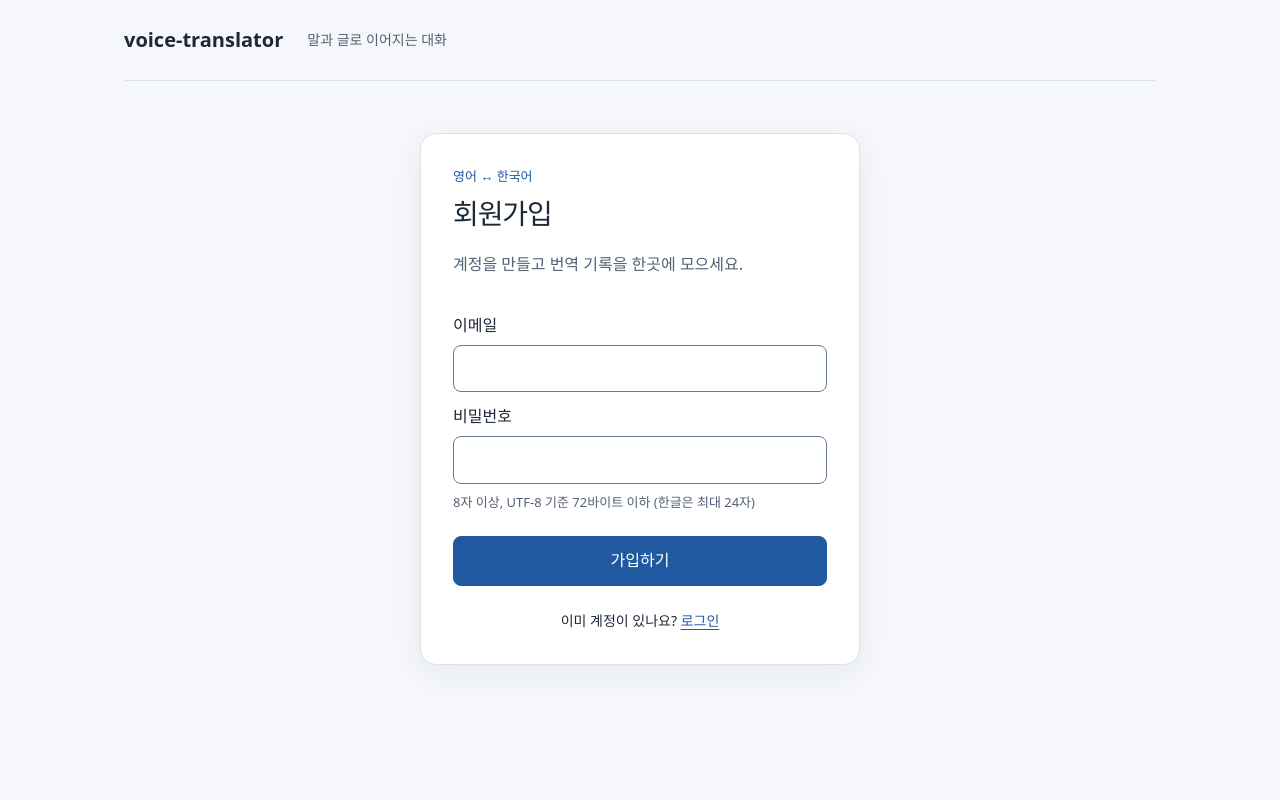
Test: authentication screens and routes › validates password character and byte limits before registration: short
Type "person@example.com" into the field labelled "이메일" at {"x": 640, "y": 369}, box [453,345,827,392]
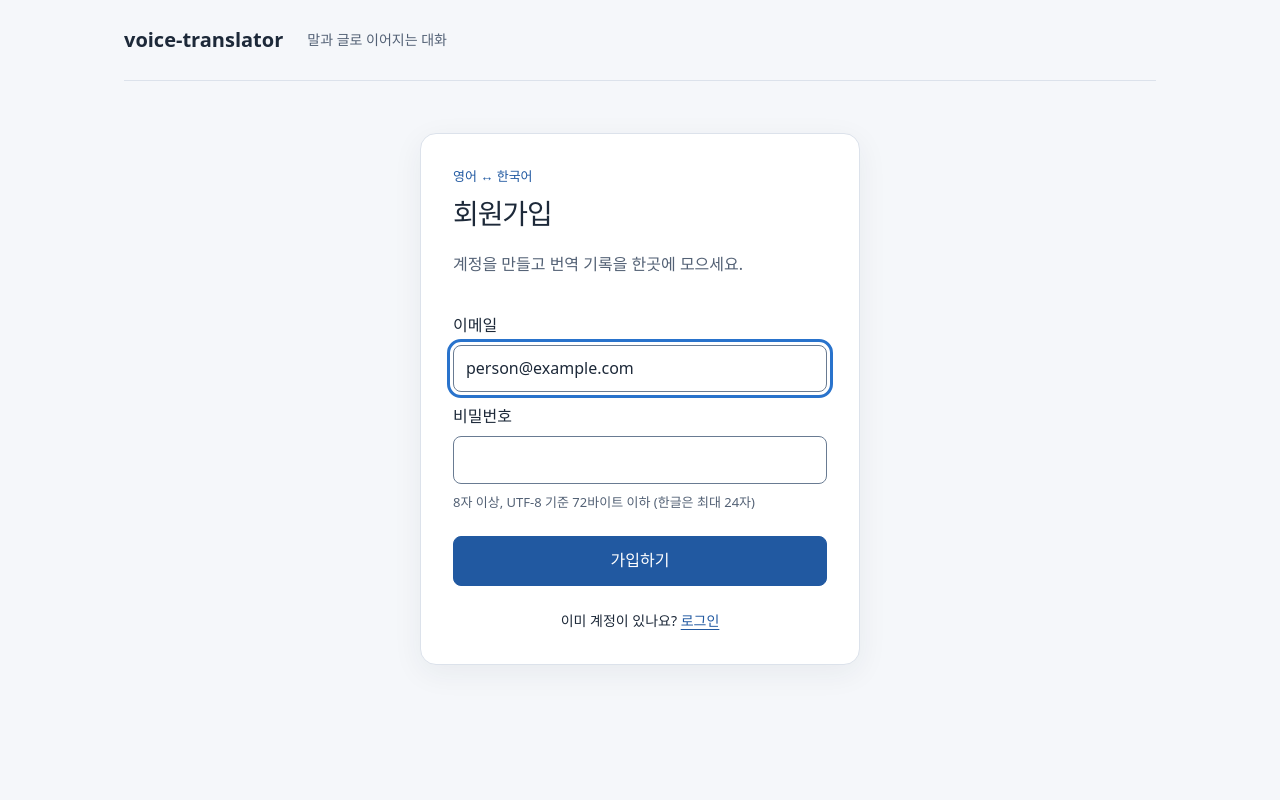
Type "short" into the password field labelled "비밀번호" at {"x": 640, "y": 460}, box [453,436,827,484]
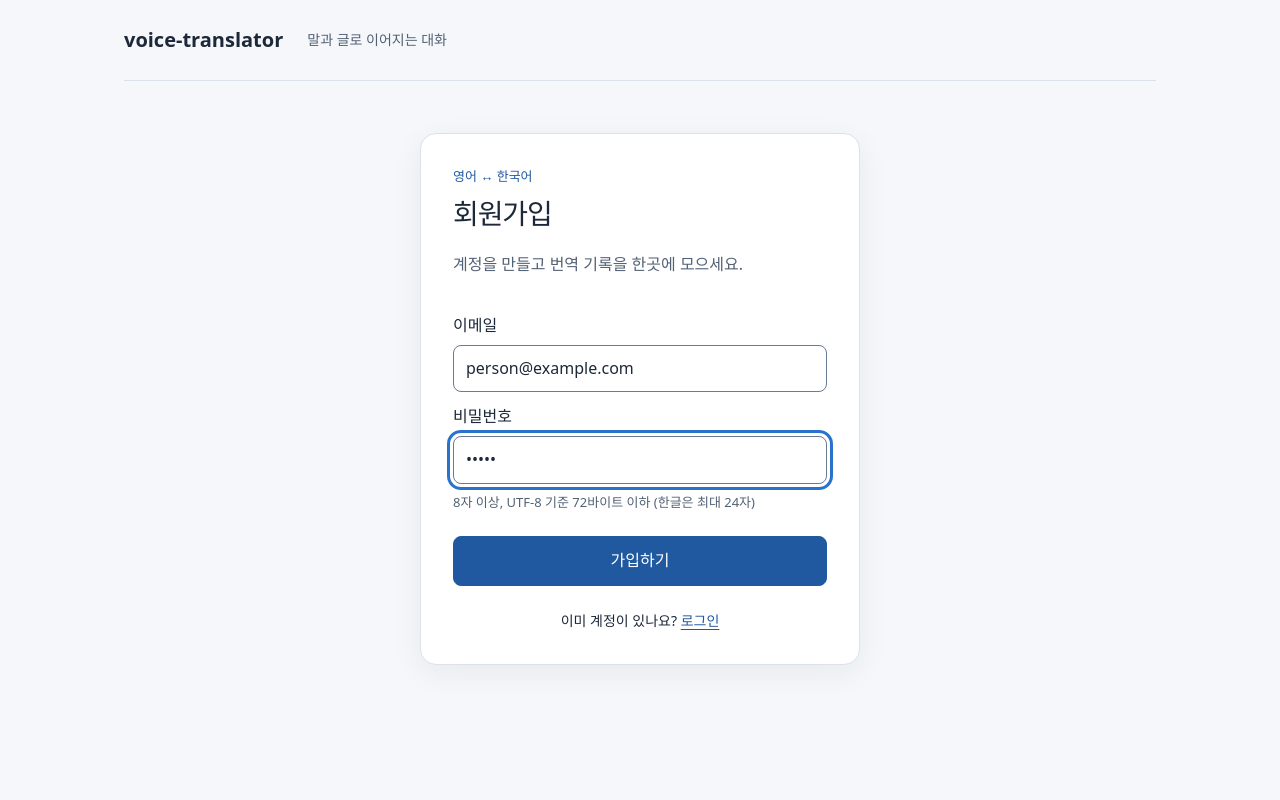
Click the button "가입하기" at {"x": 640, "y": 561}, box [453,536,827,586]
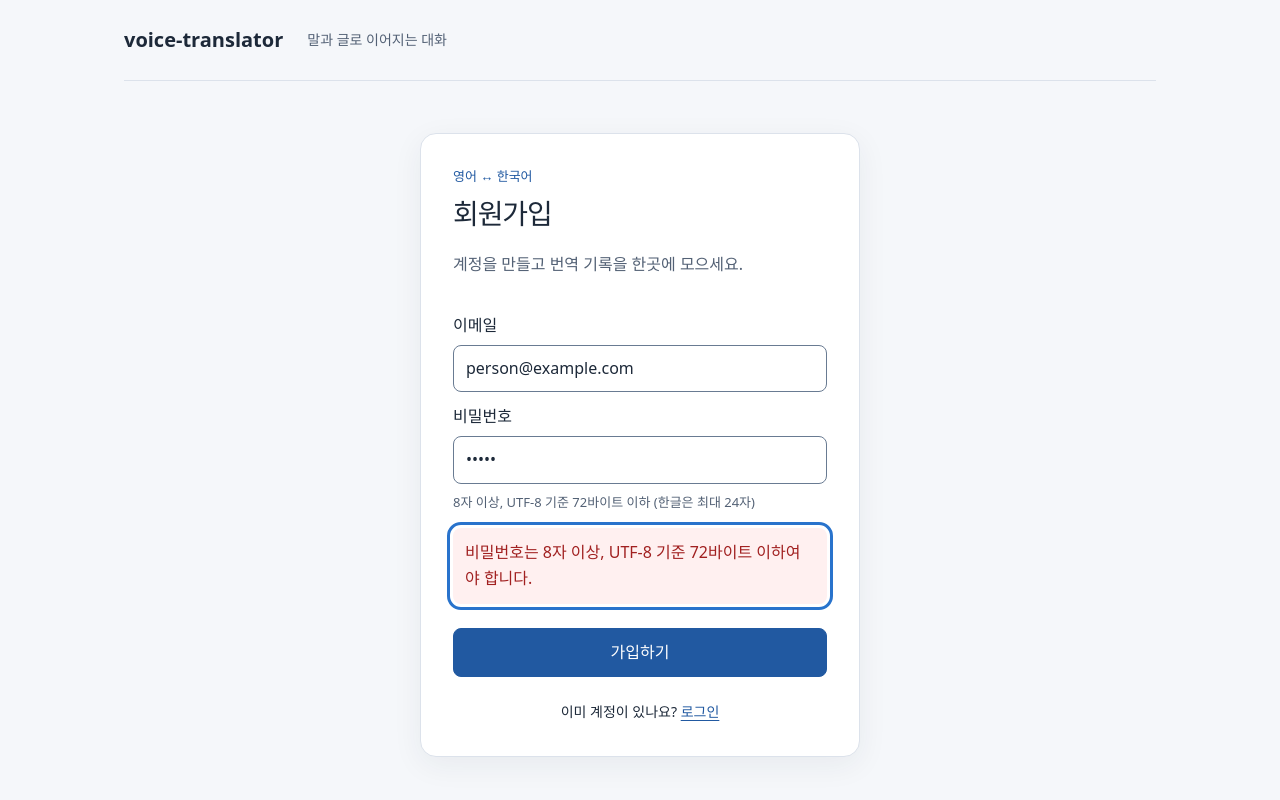
Expected: the message shows "72바이트", [465,541,800,589]
